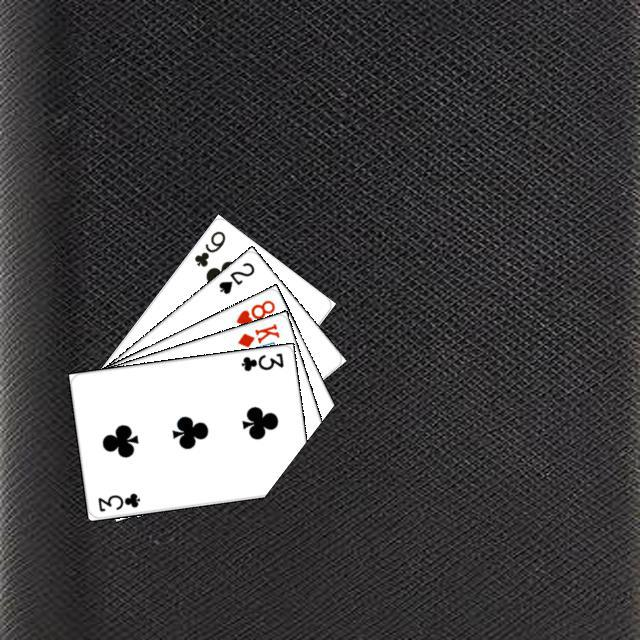2s: (214, 257, 256, 296)
3c: (236, 348, 285, 373), (93, 488, 142, 513)
8h: (231, 295, 277, 327)
9c: (189, 226, 227, 269)
Kd: (233, 318, 281, 349)
